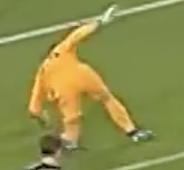goalkeeper: (24, 1, 178, 152)
